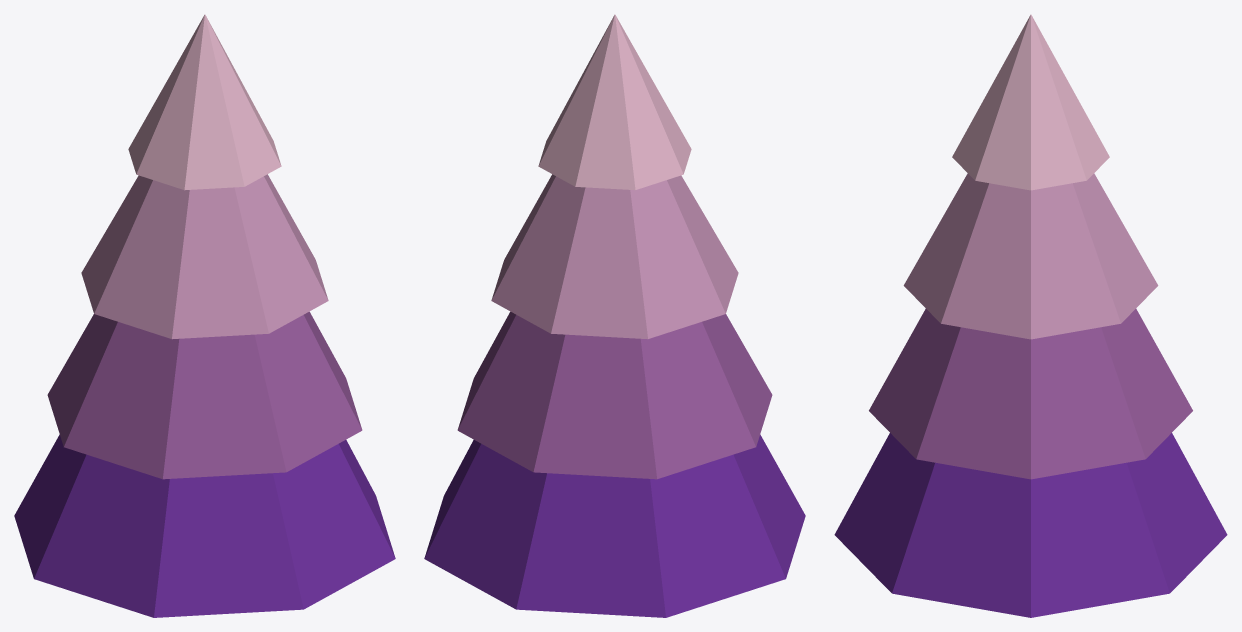
File: 01_03Tree_Purple.fbx
The picture shows the model from 3 angles, left to right: view 1: azimuth 30°, elevation 25°; view 2: azimuth 150°, elevation 25°; view 3: azimuth 270°, elevation 25°; orthographic projection.
Visible parts, largest first — view 1: Cone.001; view 2: Cone.001; view 3: Cone.001.
Part boxes in pixels (<box>): Cone.001: <box>14,14,395,617</box>; Cone.001: <box>424,14,805,617</box>; Cone.001: <box>834,14,1227,617</box>.
Bounding box in the file's own units: 133 × 195 × 133.
